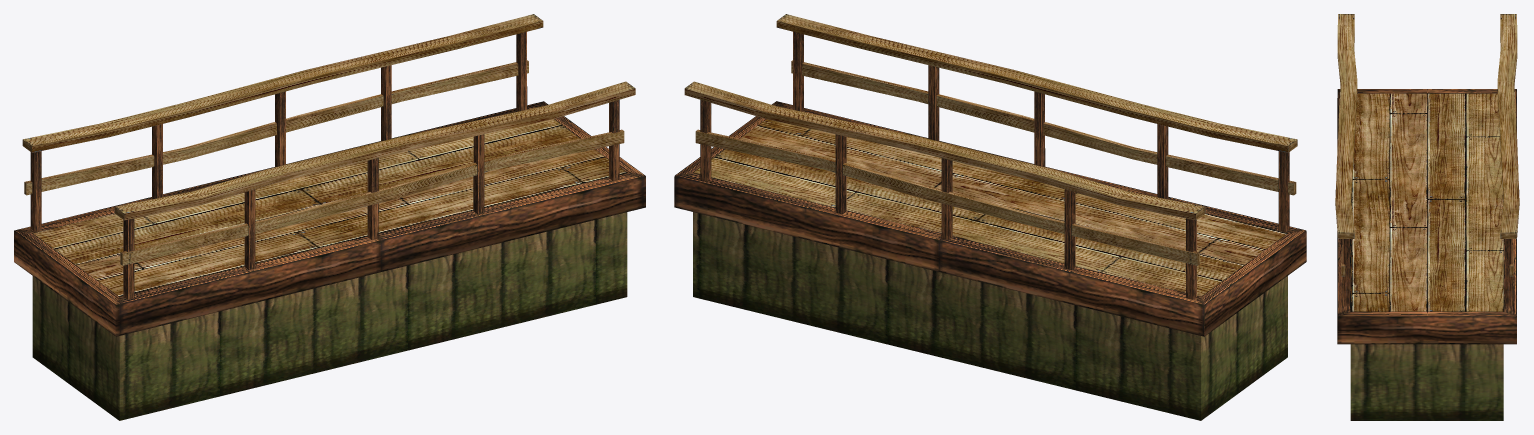
File: INST_WH2_LONG_BLOCK.fbx
3 renders of one model, left to right at view 1: azimuth 30°, elevation 25°; view 2: azimuth 150°, elevation 25°; view 3: azimuth 270°, elevation 25°, orthographic. The views are drawn at different scales.
Parts seen in each view (by area): view 1: INST_WH2_LONG_BLOCK; view 2: INST_WH2_LONG_BLOCK; view 3: INST_WH2_LONG_BLOCK.
Part boxes in pixels (left/top/right/bottom): INST_WH2_LONG_BLOCK: left=14, top=14, right=645, bottom=420; INST_WH2_LONG_BLOCK: left=674, top=14, right=1306, bottom=420; INST_WH2_LONG_BLOCK: left=1335, top=14, right=1519, bottom=420.
Bounding box in the file's own units: 60000 × 23135 × 20509.
4 materials, 4 textured.
